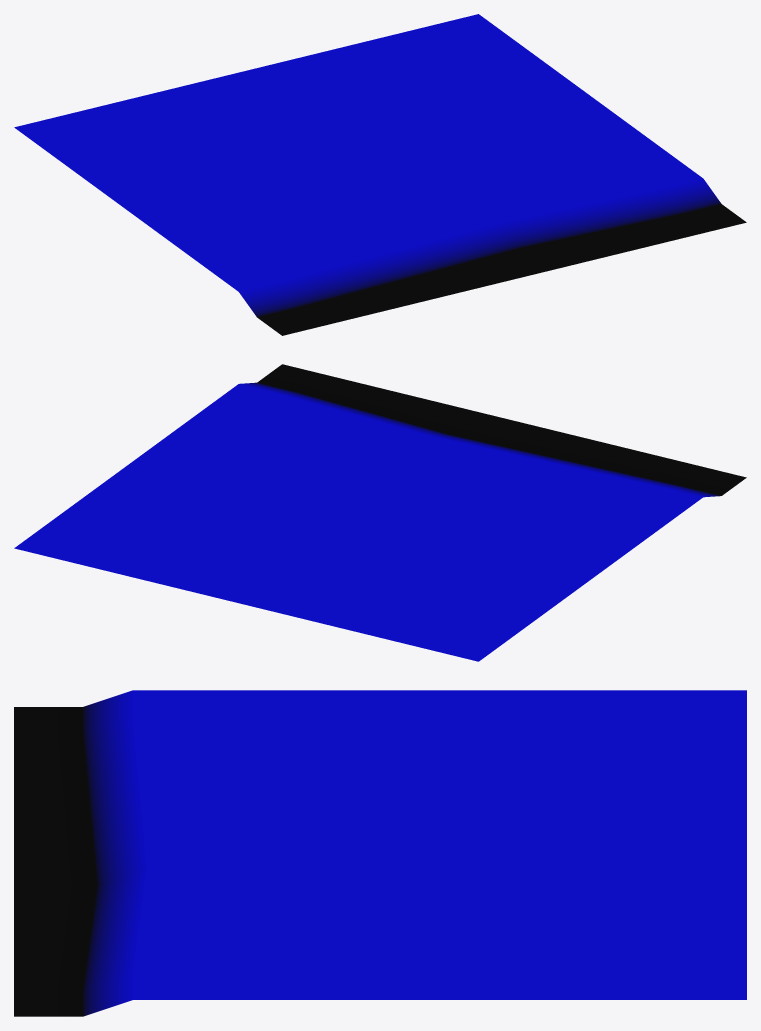
Rendered from SM_Ground_8m_PlantationSide.FBX.
3 views of the same model, one above another, from view 1: azimuth 30°, elevation 25°; view 2: azimuth 150°, elevation 25°; view 3: azimuth 270°, elevation 25° (orthographic). The views are drawn at different scales.
Visible parts, largest first — view 1: SM_Ground_8m_PlantationSide; view 2: SM_Ground_8m_PlantationSide; view 3: SM_Ground_8m_PlantationSide.
Boxes of the visible parts, left/top/right/bottom form: SM_Ground_8m_PlantationSide: left=14, top=14, right=746, bottom=335; SM_Ground_8m_PlantationSide: left=14, top=364, right=746, bottom=661; SM_Ground_8m_PlantationSide: left=14, top=690, right=746, bottom=1016.
Size of the model in its own units: 800 by 800 by 20.
